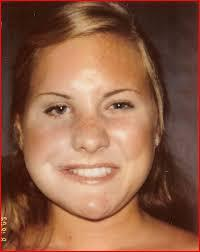normalMouth: (57, 161, 125, 189)
strokeEyeMid: (34, 86, 145, 121)
